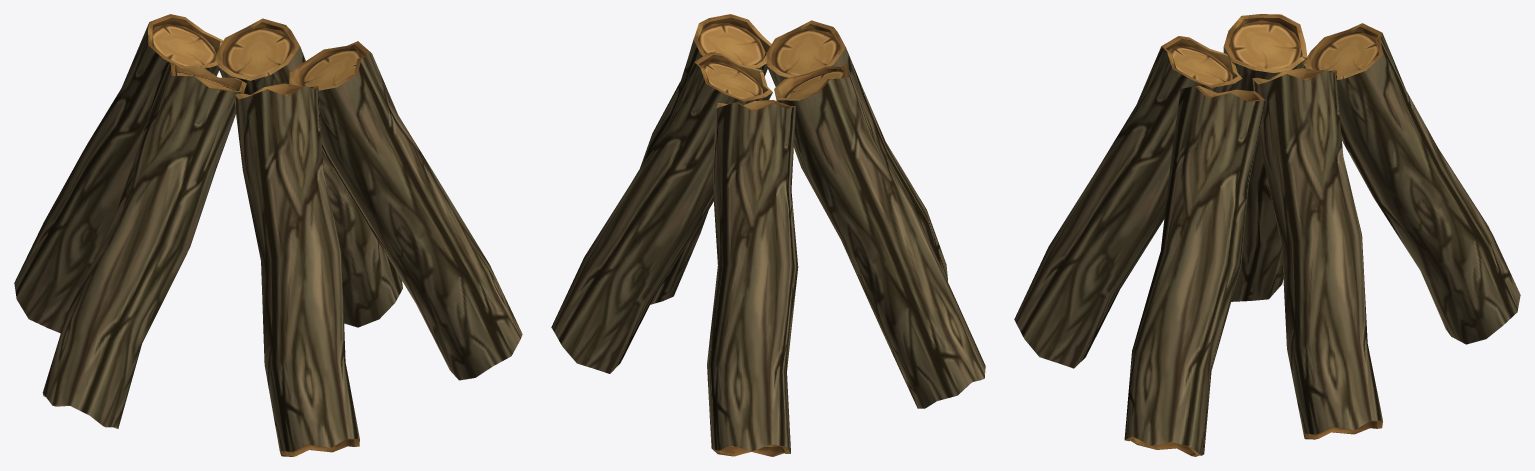
The model's file is Campfire03.fbx.
3 views of the same model, side by side, from view 1: azimuth 30°, elevation 25°; view 2: azimuth 150°, elevation 25°; view 3: azimuth 270°, elevation 25° (orthographic). The views are drawn at different scales.
Parts seen in each view (by area): view 1: Campfire03_LOD0; view 2: Campfire03_LOD0; view 3: Campfire03_LOD0.
Boxes of the visible parts, bbox=[...] form: Campfire03_LOD0: bbox=[14, 14, 522, 456]; Campfire03_LOD0: bbox=[551, 14, 985, 456]; Campfire03_LOD0: bbox=[1014, 14, 1520, 456].
Size of what is drawn, in the model's own units: 61.35 by 45.04 by 63.36.
